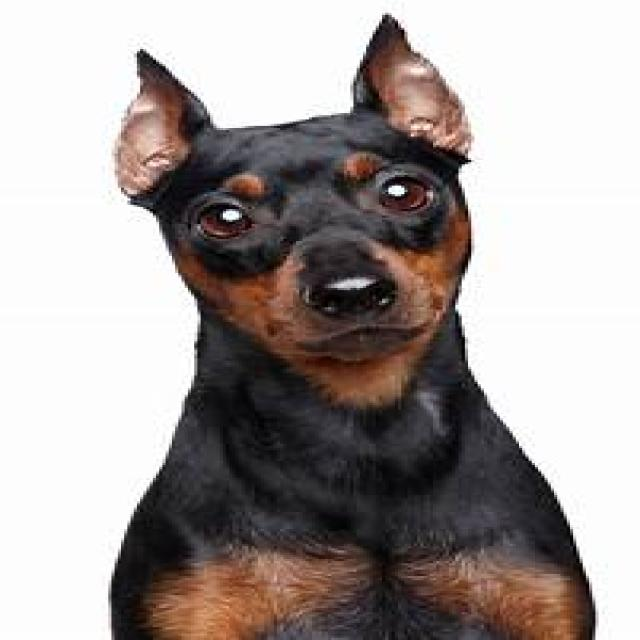dog: (111, 15, 595, 640)
